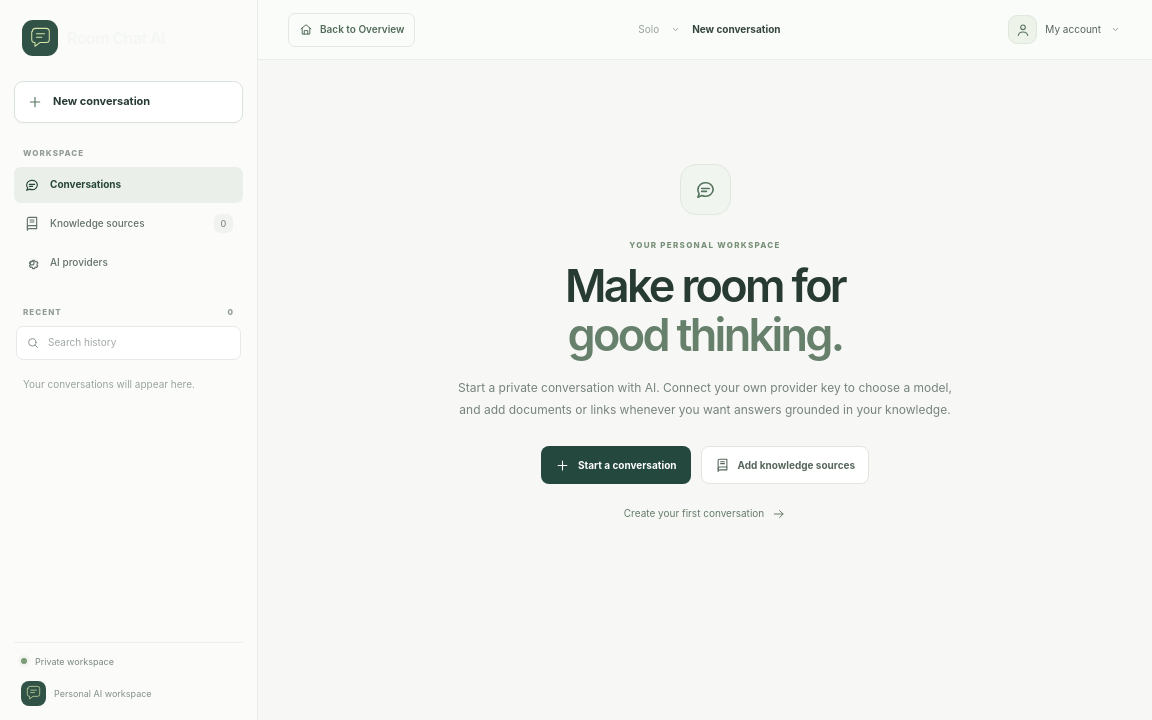
Scenario: Solo workspace › creates a conversation, sends a message, and shows the stored reply
expect the heading "Make room for" is shown: met, box [565, 261, 845, 360]
Click the button "New conversation": (128, 102) [14, 80, 243, 122]
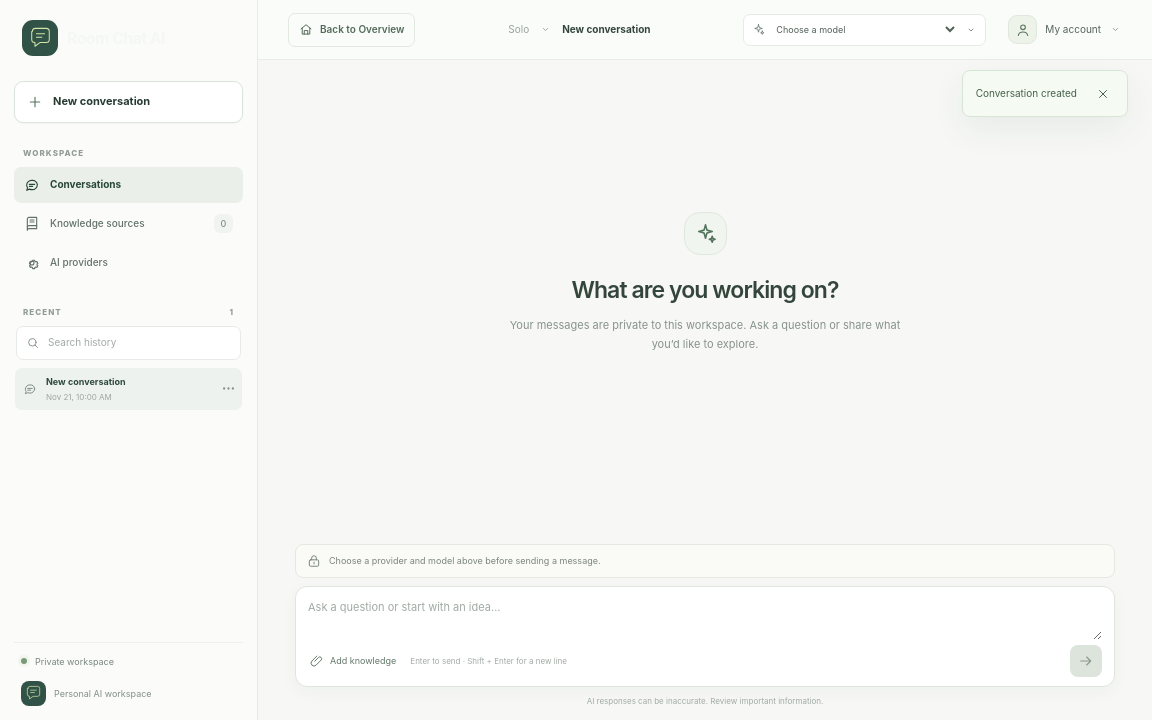
expect the heading "What are you working on?" is shown: met, box [571, 273, 839, 307]
Select "openai · gpt-4.1-mini · Personal OpenAI" in the dropdown named "Conversation model": (865, 30) [772, 23, 958, 36]
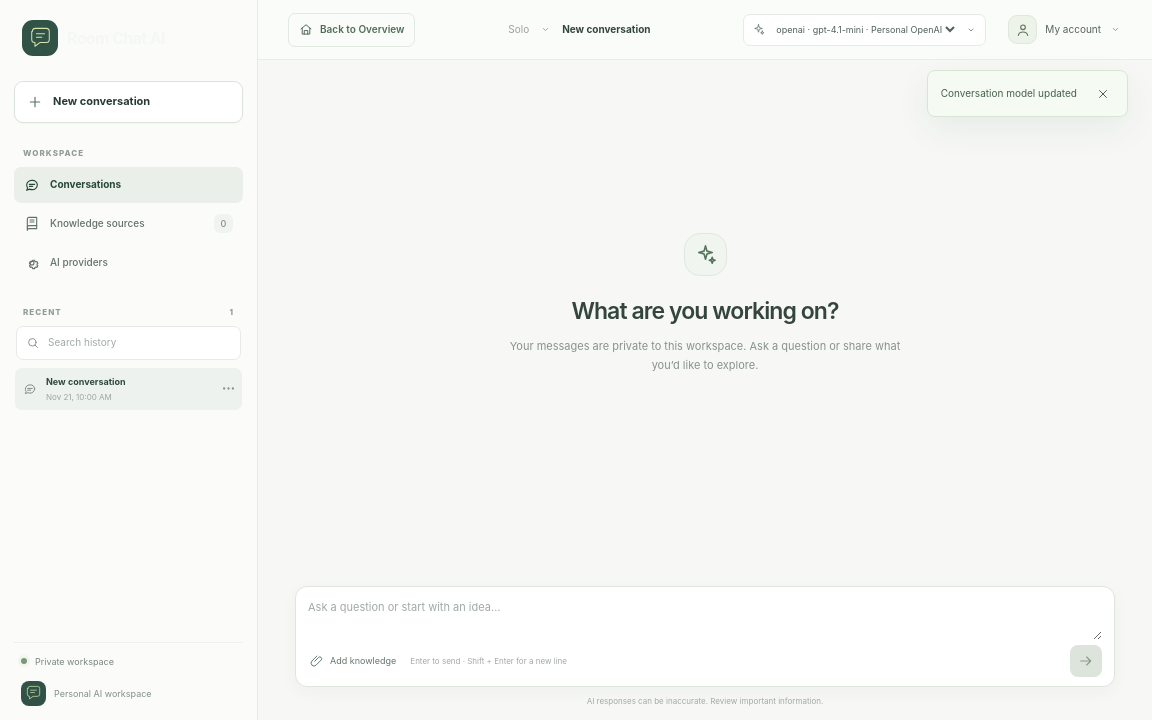
In the text box named "Message Room Chat AI": (705, 619) [308, 598, 1102, 640], type "Summarize the decision"
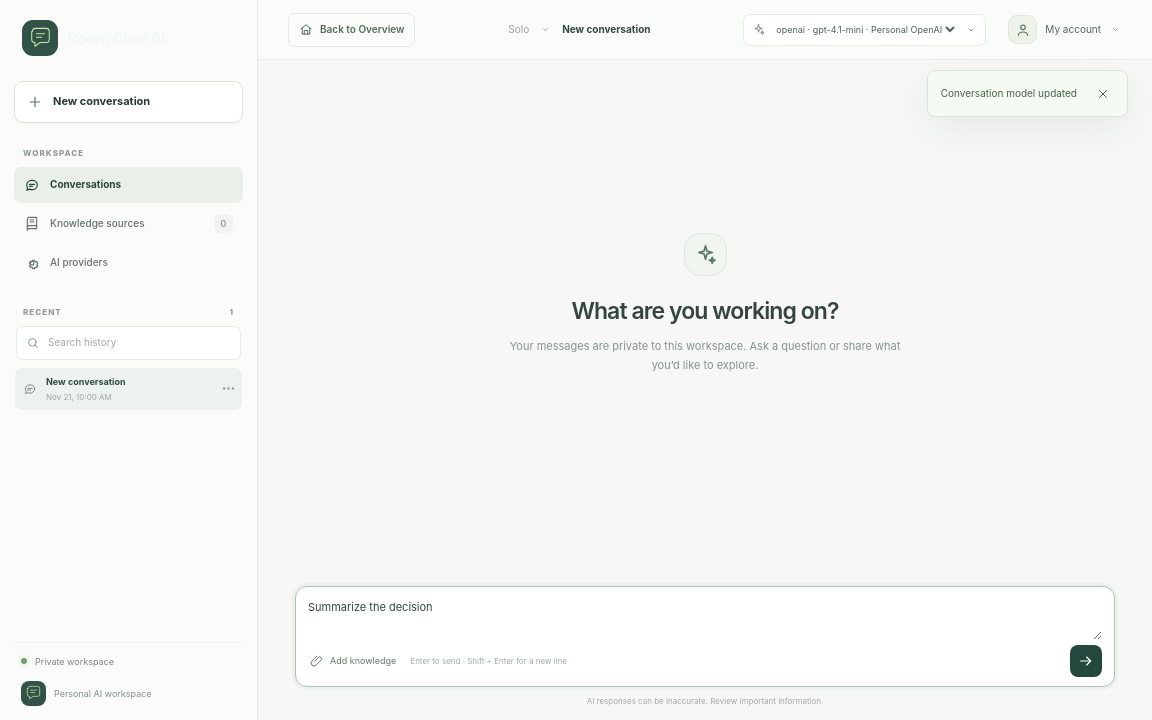
Click the button named "Send message": (1086, 661) [1070, 645, 1102, 677]
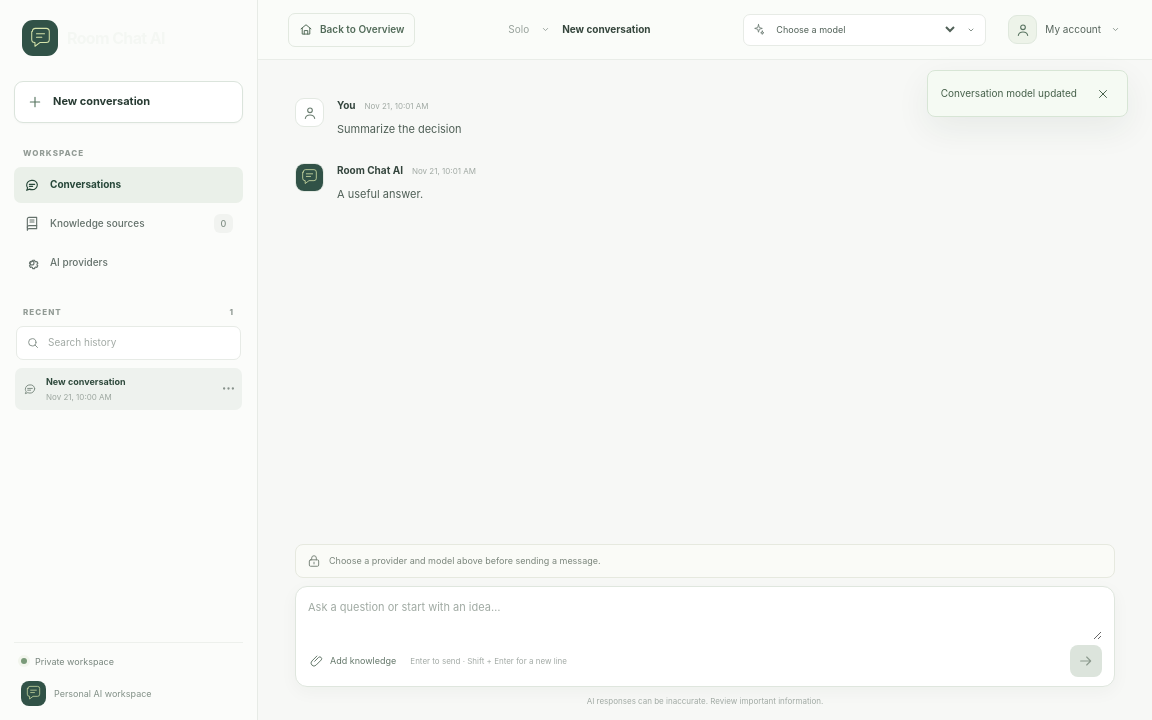
expect the text "A useful answer." is shown: met, box [337, 187, 423, 201]
expect the text "Summarize the decision" is shown: met, box [337, 122, 462, 136]
